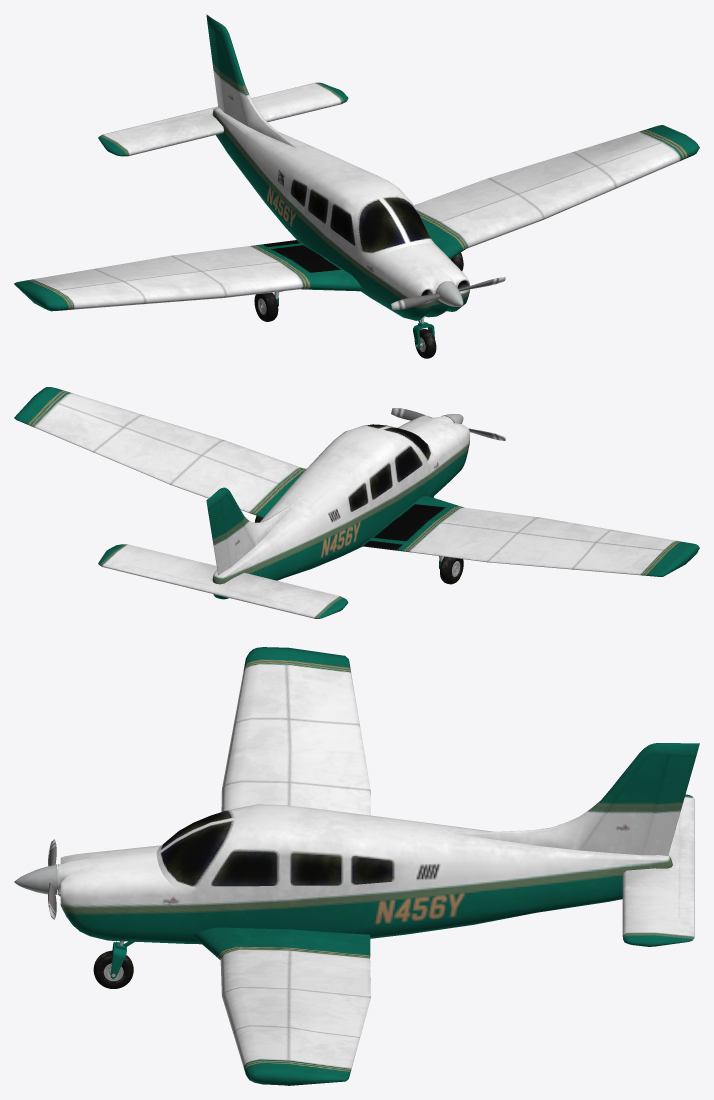
Rendered from PA28-uncompressed-lights.glb.
3 renders of one model, top to bottom at view 1: azimuth 30°, elevation 25°; view 2: azimuth 150°, elevation 25°; view 3: azimuth 270°, elevation 25°, orthographic. The views are drawn at different scales.
Visible parts, largest first — view 1: Plane.001, Plane.002, Plane.007, Plane.003, Plane.009, Plane.008, Plane.006, Plane.005; view 2: Plane.001, Plane.002, Plane.007, Plane.009, Plane.008, Plane.005, Plane.006, Plane.003, Cylinder.003; view 3: Plane.002, Plane.001, Plane.009, Plane.007, Plane.008, Plane.006, Plane.003, Plane.005, Cylinder.007, Cylinder.
Part boxes in pixels (x1=…): Plane.001: x1=14, y1=125, x2=699, y2=311; Plane.002: x1=212, y1=107, x2=469, y2=320; Plane.007: x1=98, y1=82, x2=348, y2=156; Plane.003: x1=358, y1=197, x2=430, y2=253; Plane.009: x1=215, y1=24, x2=297, y2=148; Plane.008: x1=290, y1=179, x2=355, y2=245; Plane.006: x1=206, y1=14, x2=224, y2=112; Plane.005: x1=129, y1=89, x2=293, y2=130; Plane.001: x1=14, y1=387, x2=699, y2=576; Plane.002: x1=212, y1=415, x2=470, y2=599; Plane.007: x1=98, y1=544, x2=348, y2=618; Plane.009: x1=219, y1=487, x2=297, y2=566; Plane.008: x1=348, y1=445, x2=422, y2=511; Plane.005: x1=128, y1=566, x2=293, y2=612; Plane.006: x1=206, y1=489, x2=230, y2=575; Plane.003: x1=363, y1=424, x2=430, y2=460; Cylinder.003: x1=440, y1=556, x2=463, y2=584; Plane.002: x1=58, y1=804, x2=672, y2=944; Plane.001: x1=192, y1=647, x2=370, y2=1085; Plane.009: x1=453, y1=743, x2=668, y2=855; Plane.007: x1=622, y1=794, x2=694, y2=946; Plane.008: x1=211, y1=850, x2=394, y2=886; Plane.006: x1=642, y1=743, x2=699, y2=855; Plane.003: x1=160, y1=810, x2=233, y2=886; Plane.005: x1=678, y1=813, x2=694, y2=920; Cylinder.007: x1=14, y1=864, x2=57, y2=894; Cylinder: x1=93, y1=950, x2=133, y2=988.
Size of the model in its own units: 10.91 by 2.92 by 7.41.
Materials: 1 (1 with a texture image).
